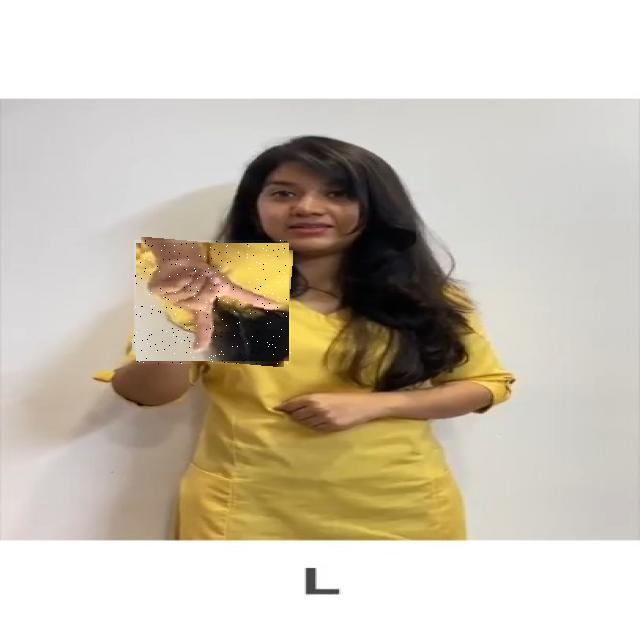L: (134, 240, 291, 364)
